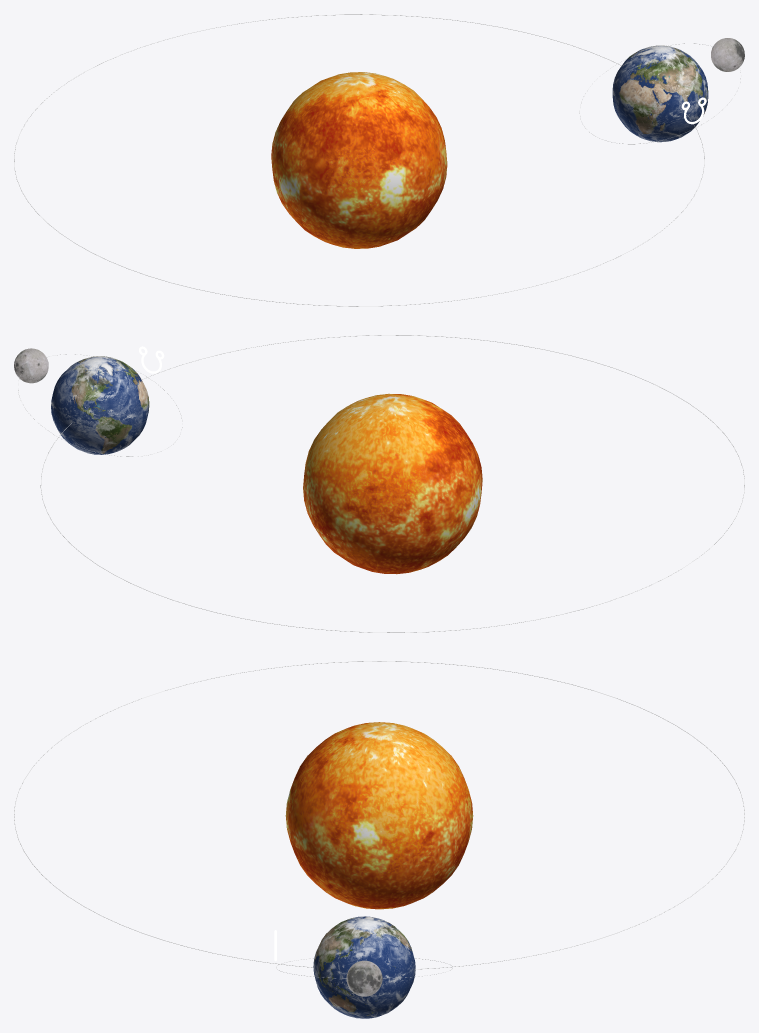
File: Ketu.glb
3 views of the same model, one above another, from view 1: azimuth 30°, elevation 25°; view 2: azimuth 150°, elevation 25°; view 3: azimuth 270°, elevation 25° (orthographic). The views are drawn at different scales.
Parts seen in each view (by area): view 1: Sun, Earth, Circle.001, Moon; view 2: Sun, Earth, Circle.001, Moon; view 3: Sun, Earth, Circle.001, Moon.
Boxes of the visible parts, <box> form: Sun: <box>271,72,447,248</box>; Earth: <box>612,45,708,142</box>; Circle.001: <box>14,14,704,306</box>; Moon: <box>711,38,744,71</box>; Sun: <box>303,393,482,574</box>; Earth: <box>51,356,149,454</box>; Circle.001: <box>40,335,744,632</box>; Moon: <box>14,348,48,383</box>; Sun: <box>285,722,473,909</box>; Earth: <box>313,916,415,1018</box>; Circle.001: <box>14,661,744,969</box>; Moon: <box>346,960,382,996</box>.
Bounding box in the file's own units: 13.43 × 3.05 × 11.89.
Materials: 6 (3 with a texture image).
